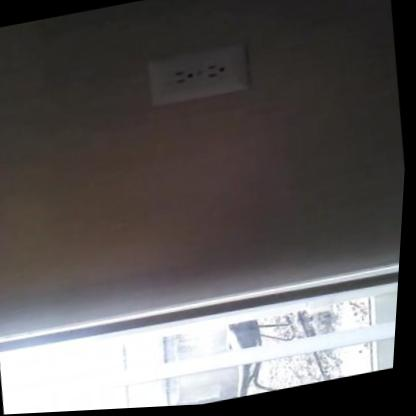OUTLET: (144, 42, 251, 108)
